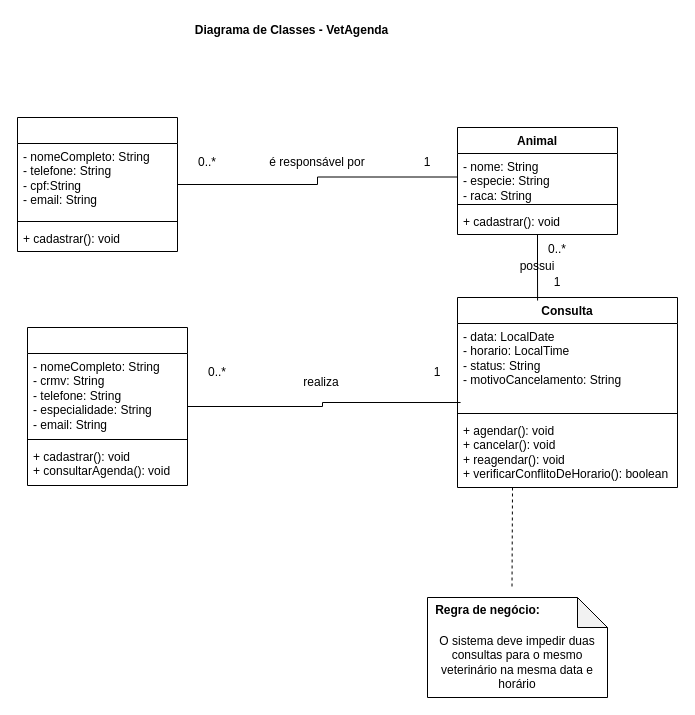
Some shapes in this 695 by 715 pixel diagram are drawn without their labels. Here are the shapes that lost their labels. From the top down, the box of each, then its label:
(16, 116, 178, 252): Tutor
(26, 326, 188, 486): Veterinario
